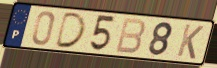0: (30, 10, 56, 47)
5: (88, 14, 119, 53)
8: (147, 21, 174, 57)
B: (113, 17, 147, 56)
D: (52, 11, 88, 50)
K: (175, 23, 206, 61)
